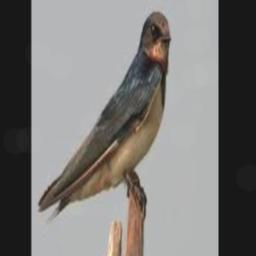Swallow: (37, 13, 170, 218)
